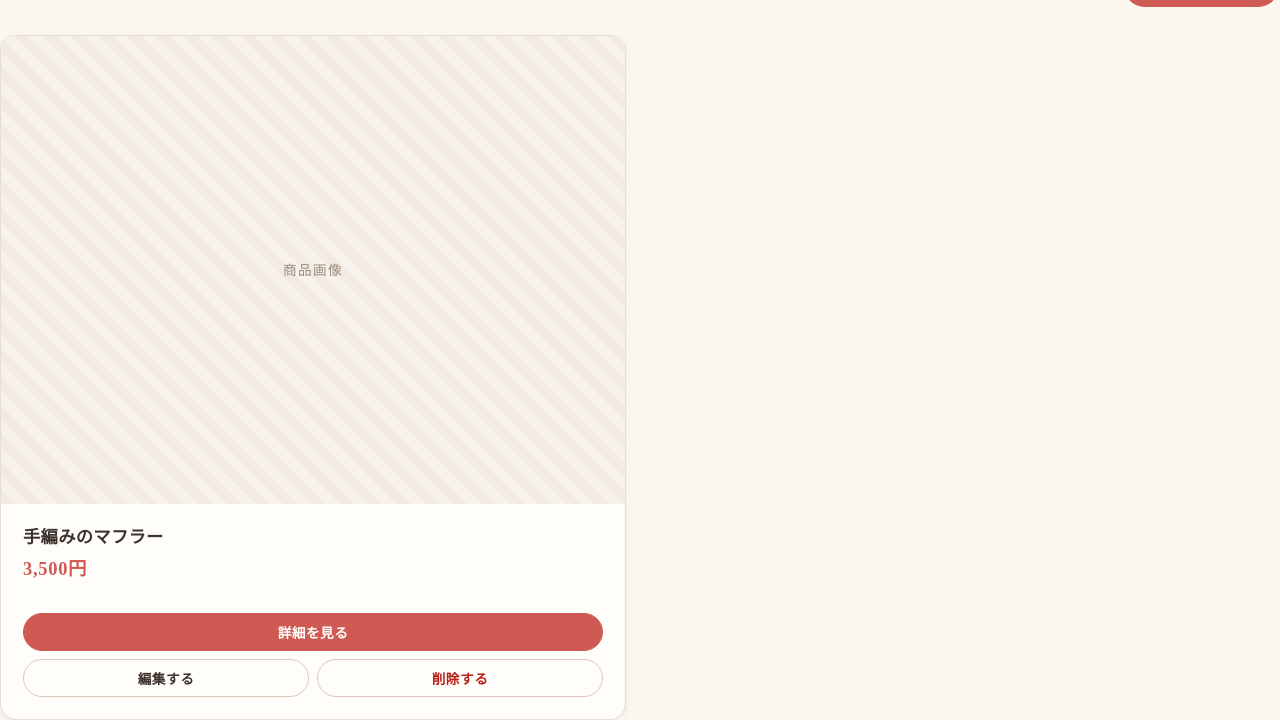
Test: 商品一覧画面：商品削除 › 最後の1件を削除すると「商品はありません」と表示する
(page scrolled)
Click the button with aria-label "手編みのマフラーを削除する": (460, 678) x1=317 y1=659 x2=603 y2=697
(page scrolled)
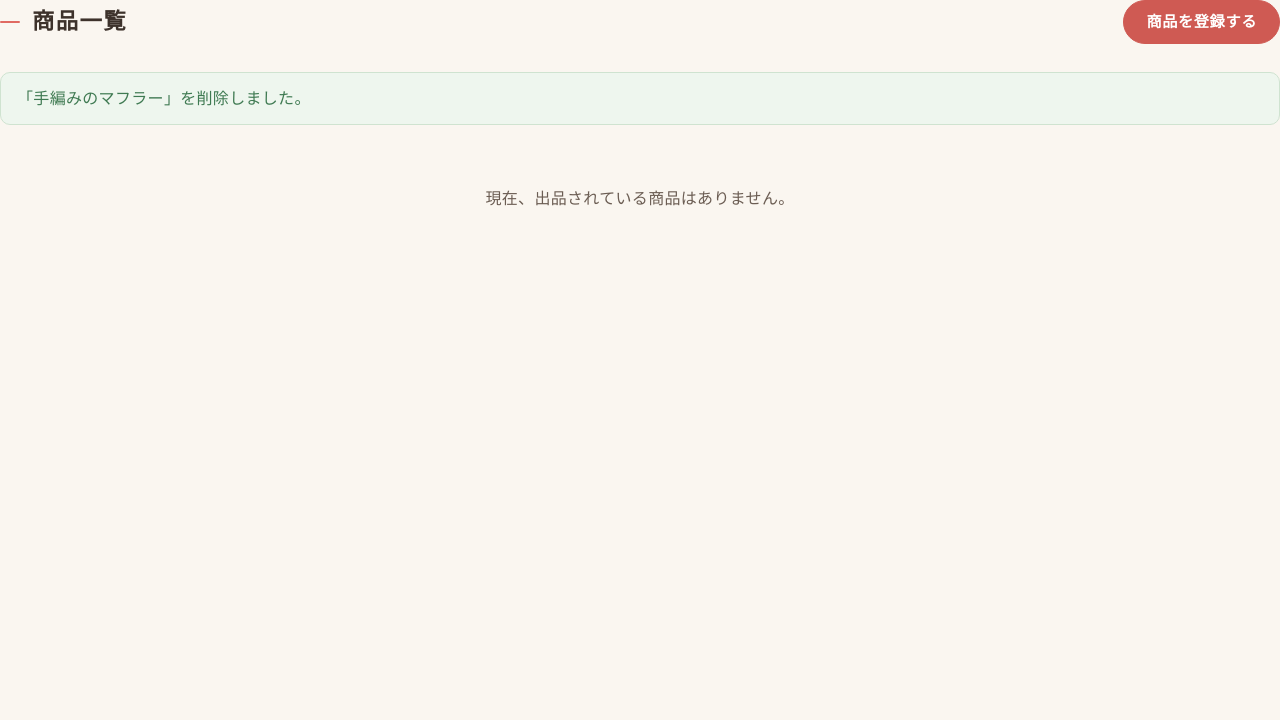
Expected: the text "「手編みのマフラー」を削除しました。" is shown, x1=0 y1=72 x2=1279 y2=125
Expected: the text "現在、出品されている商品はありません。" is shown, x1=485 y1=187 x2=794 y2=209
